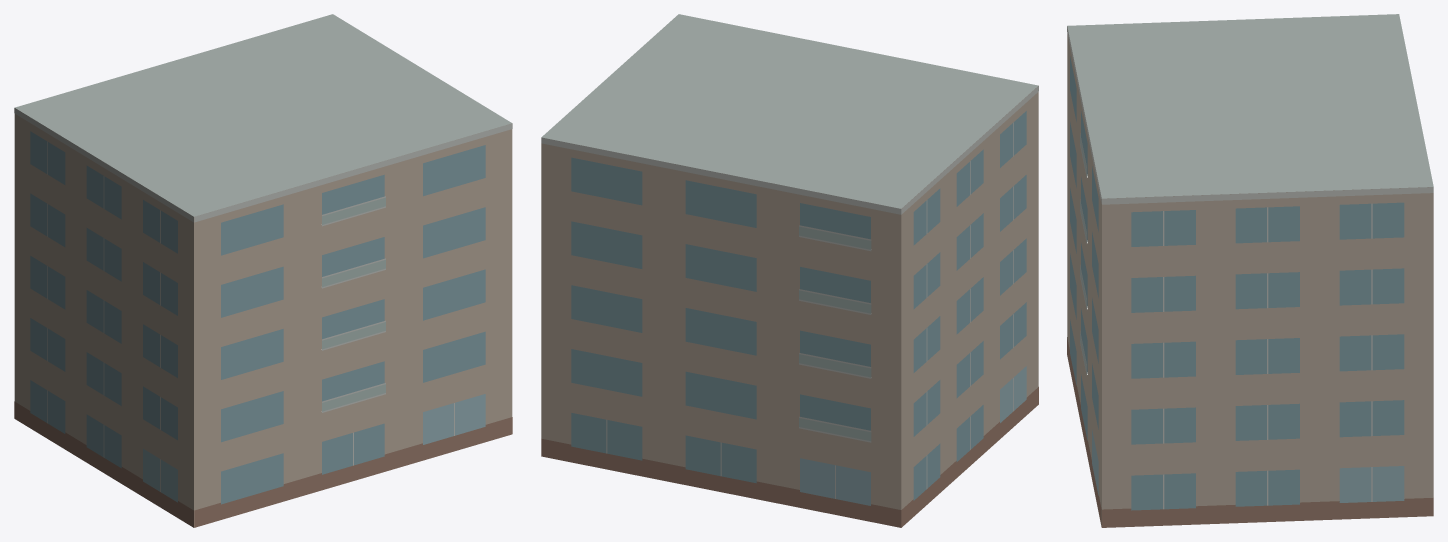
File: survey-upis-32743022.glb
3 renders of one model, left to right at view 1: azimuth 30°, elevation 25°; view 2: azimuth 150°, elevation 25°; view 3: azimuth 270°, elevation 25°, orthographic. The views are drawn at different scales.
Parts seen in each view (by area): view 1: survey-upis-32743022.tmp; view 2: survey-upis-32743022.tmp; view 3: survey-upis-32743022.tmp.
Part boxes in pixels (x1=…): survey-upis-32743022.tmp: x1=14, y1=14, x2=512, y2=527; survey-upis-32743022.tmp: x1=541, y1=14, x2=1038, y2=527; survey-upis-32743022.tmp: x1=1067, y1=14, x2=1433, y2=527.
Bounding box in the file's own units: 15.77 × 13.1 × 13.23.
